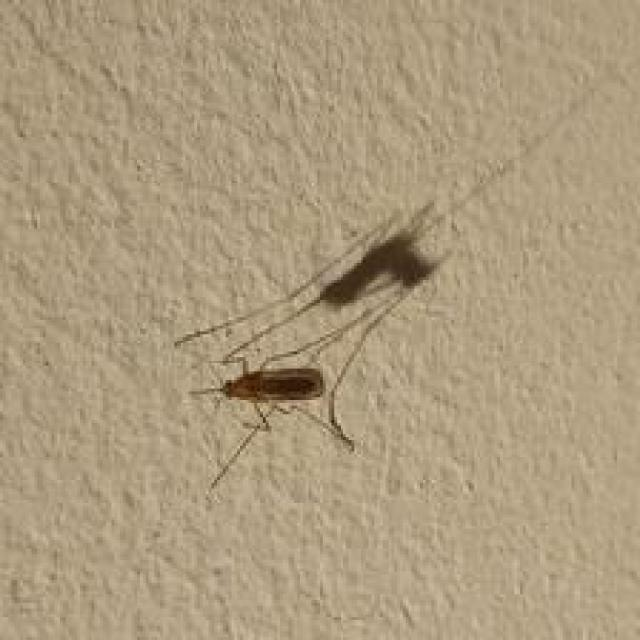Culex: (173, 196, 456, 501)
